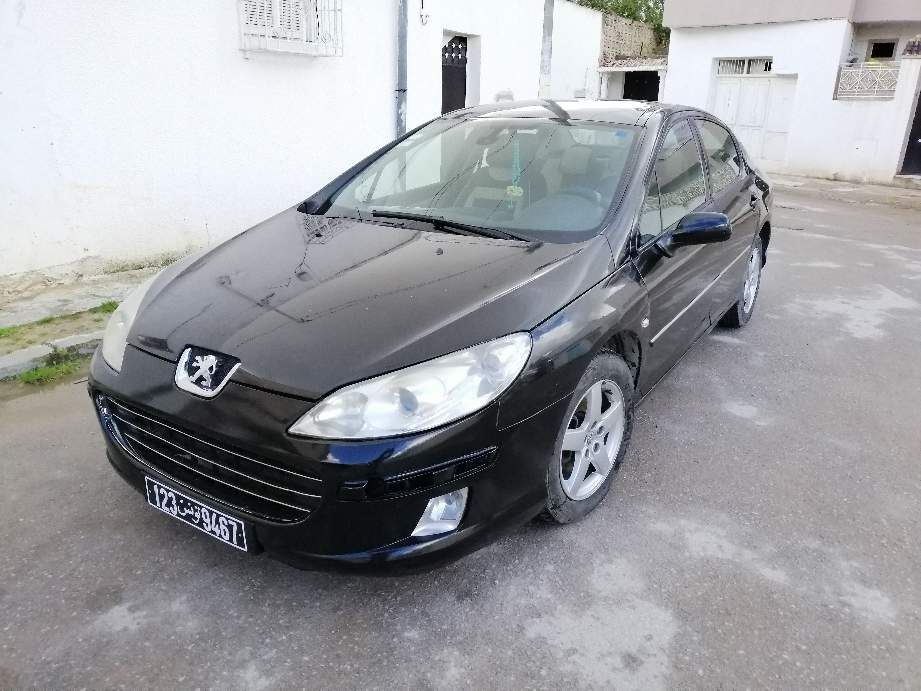LP: (143, 475, 249, 554)
